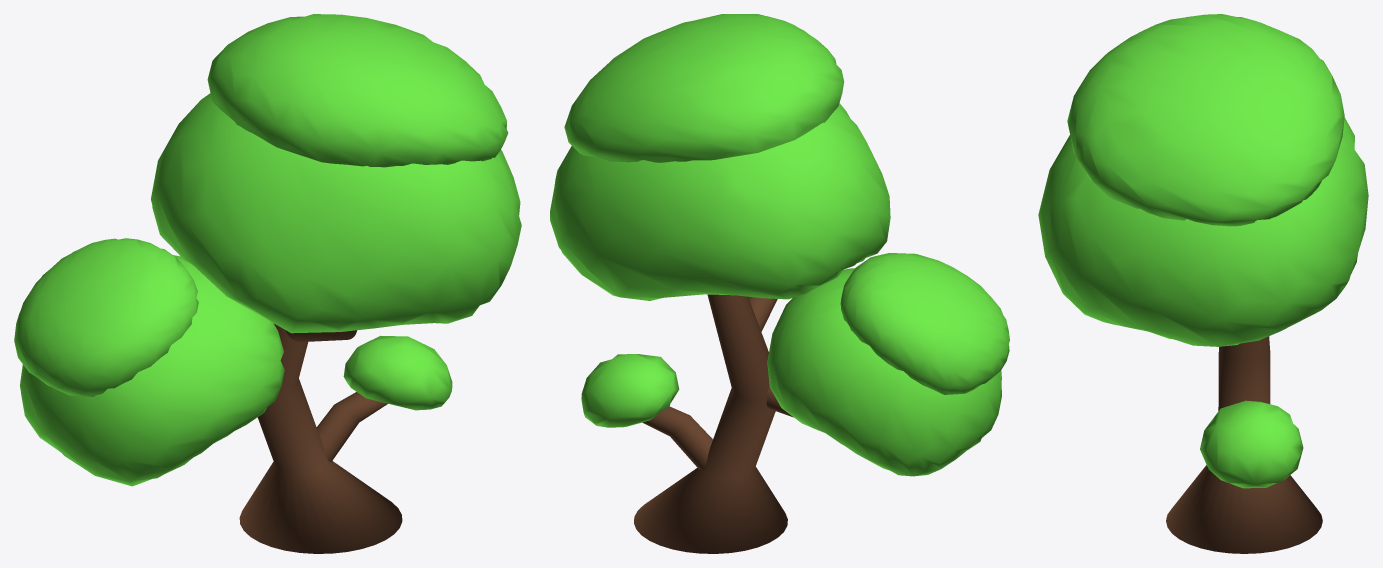
Rendered from tree8.glb.
3 renders of one model, left to right at view 1: azimuth 30°, elevation 25°; view 2: azimuth 150°, elevation 25°; view 3: azimuth 270°, elevation 25°, orthographic. The views are drawn at different scales.
Visible parts, largest first — view 1: tree8; view 2: tree8; view 3: tree8.
Boxes of the visible parts, left/top/right/bottom form: tree8: left=14, top=14, right=521, bottom=553; tree8: left=550, top=14, right=1009, bottom=553; tree8: left=1038, top=14, right=1368, bottom=553.
Size of the model in its own units: 6.12 by 6.44 by 3.98.
